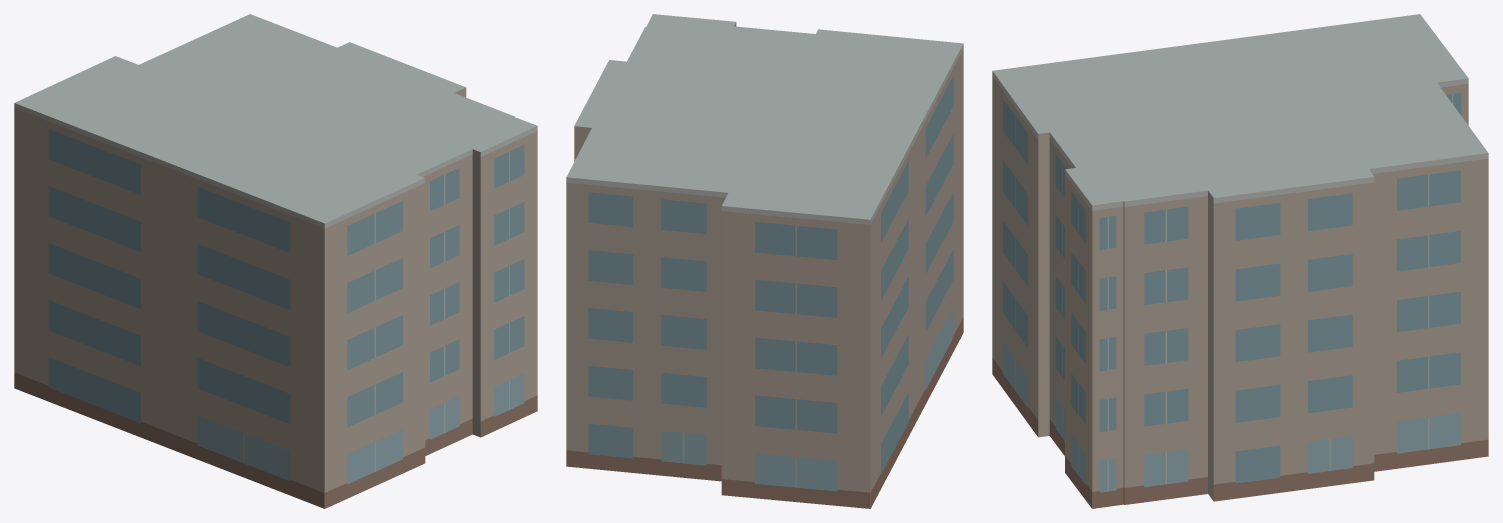
The model's file is survey-upis-32622175.glb.
The picture shows the model from 3 angles, left to right: view 1: azimuth 30°, elevation 25°; view 2: azimuth 150°, elevation 25°; view 3: azimuth 270°, elevation 25°; orthographic projection. The views are drawn at different scales.
Parts seen in each view (by area): view 1: survey-upis-32622175.tmp; view 2: survey-upis-32622175.tmp; view 3: survey-upis-32622175.tmp.
Part boxes in pixels (x1=…): survey-upis-32622175.tmp: x1=14, y1=14, x2=537, y2=508; survey-upis-32622175.tmp: x1=566, y1=14, x2=963, y2=508; survey-upis-32622175.tmp: x1=992, y1=14, x2=1488, y2=508.
Size of the model in its own units: 18.48 by 13.65 by 20.24.
